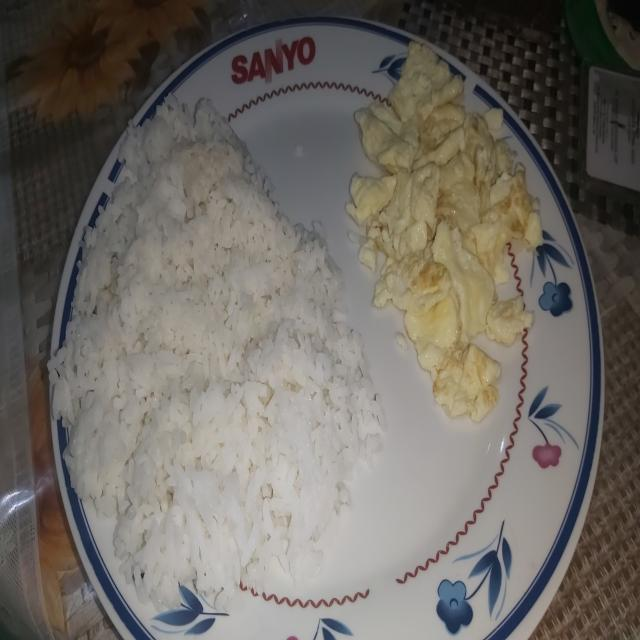Chicken -Chicken Inasal-: (63, 90, 350, 592)
